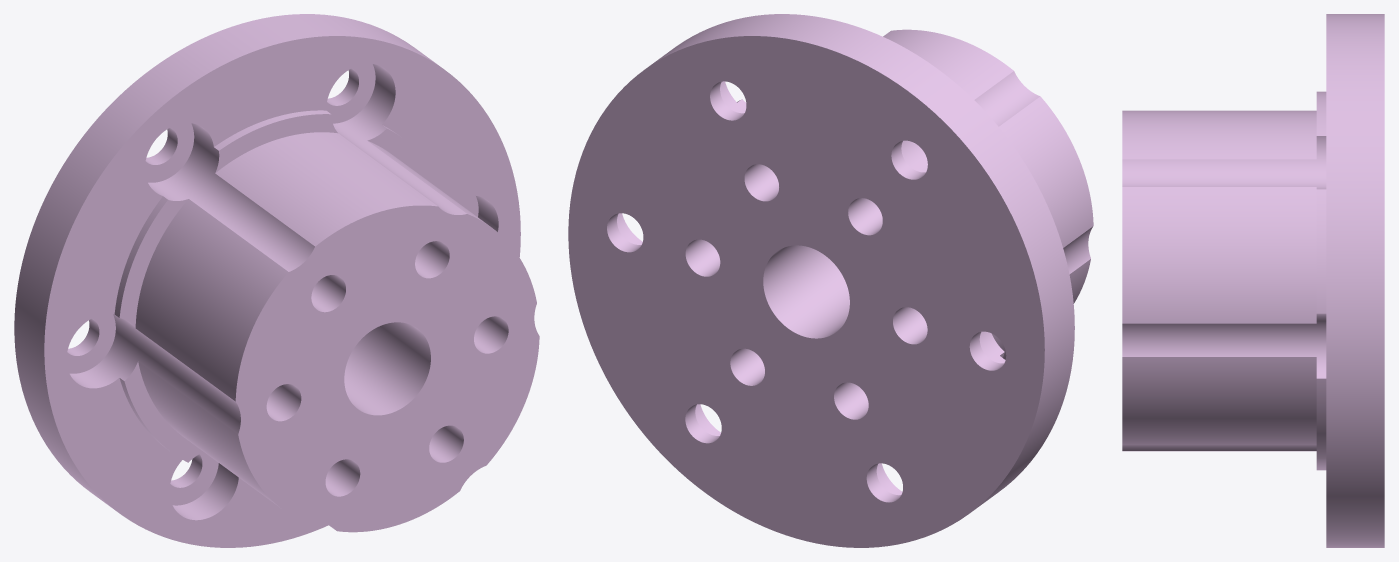
File: exterior_output_drive.gltf
The picture shows the model from 3 angles, left to right: view 1: azimuth 30°, elevation 25°; view 2: azimuth 150°, elevation 25°; view 3: azimuth 270°, elevation 25°; orthographic projection. The views are drawn at different scales.
Visible parts, largest first — view 1: mesh365, mesh348, mesh349, mesh337, mesh330, mesh336, mesh372, mesh342, mesh343, mesh329, mesh338, mesh332 (+15 smaller); view 2: mesh366, mesh349, mesh337, mesh372, mesh330, mesh336, mesh342, mesh367, mesh369, mesh370, mesh373, mesh371 (+1 smaller); view 3: mesh349, mesh334, mesh352, mesh330, mesh353, mesh329, mesh335, mesh358, mesh350, mesh331.
Boxes of the visible parts, left/top/right/bottom form: mesh365: left=235, top=205, right=539, bottom=532; mesh348: left=44, top=36, right=520, bottom=547; mesh349: left=14, top=14, right=438, bottom=510; mesh337: left=135, top=199, right=288, bottom=401; mesh330: left=215, top=132, right=437, bottom=246; mesh336: left=148, top=123, right=314, bottom=271; mesh372: left=344, top=322, right=430, bottom=415; mesh342: left=70, top=314, right=240, bottom=433; mesh343: left=138, top=361, right=279, bottom=507; mesh329: left=333, top=64, right=466, bottom=214; mesh338: left=119, top=199, right=188, bottom=327; mesh332: left=215, top=114, right=337, bottom=172; mesh366: left=568, top=36, right=1044, bottom=547; mesh349: left=650, top=14, right=1074, bottom=509; mesh337: left=999, top=96, right=1093, bottom=247; mesh372: left=763, top=245, right=849, bottom=338; mesh330: left=883, top=29, right=1013, bottom=143; mesh336: left=901, top=71, right=1039, bottom=172; mesh342: left=979, top=226, right=1092, bottom=363; mesh367: left=730, top=348, right=764, bottom=385; mesh369: left=893, top=307, right=927, bottom=344; mesh370: left=848, top=198, right=882, bottom=235; mesh373: left=685, top=239, right=720, bottom=276; mesh371: left=744, top=164, right=778, bottom=201; mesh349: left=1326, top=14, right=1384, bottom=547; mesh334: left=1122, top=187, right=1316, bottom=323; mesh352: left=1122, top=357, right=1316, bottom=444; mesh330: left=1122, top=110, right=1316, bottom=159; mesh353: left=1122, top=313, right=1326, bottom=378; mesh329: left=1122, top=136, right=1326, bottom=189; mesh335: left=1316, top=189, right=1326, bottom=313; mesh358: left=1122, top=445, right=1326, bottom=470; mesh350: left=1316, top=378, right=1326, bottom=458; mesh331: left=1316, top=91, right=1326, bottom=135.
Size of the model in its own units: 0.055 by 0.055 by 0.027.
